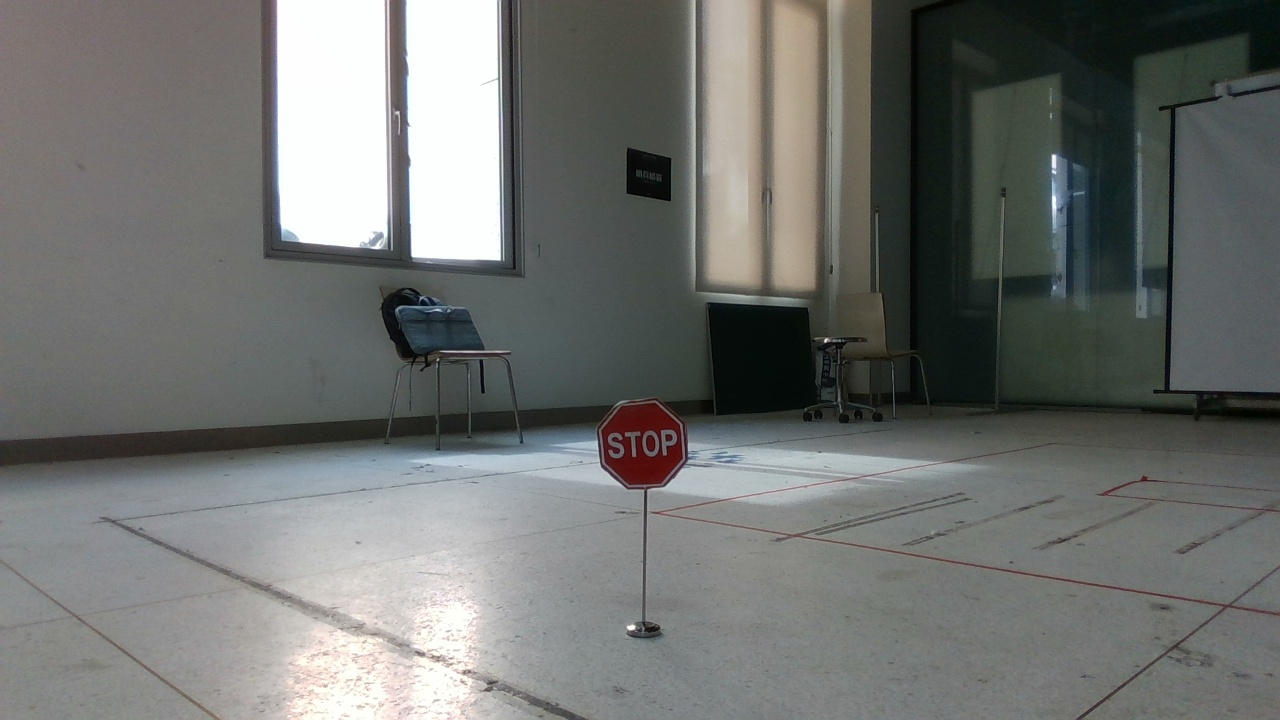stop_sign: (575, 392, 727, 649)
